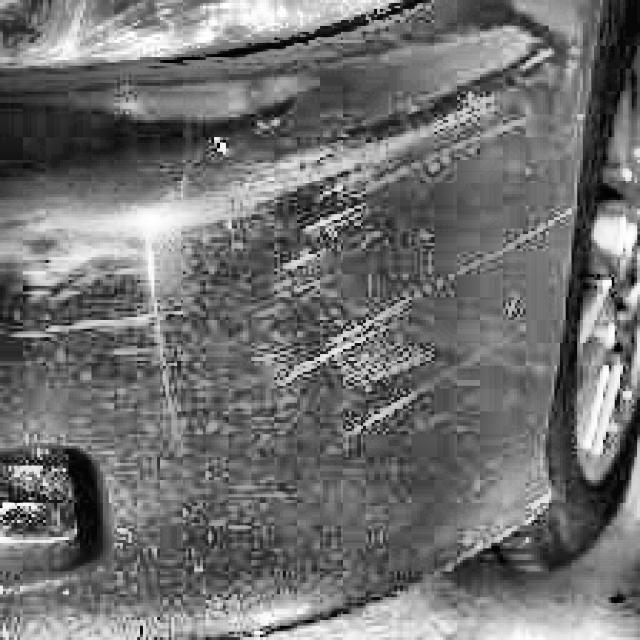bumper_scratch: (70, 299, 483, 441)
